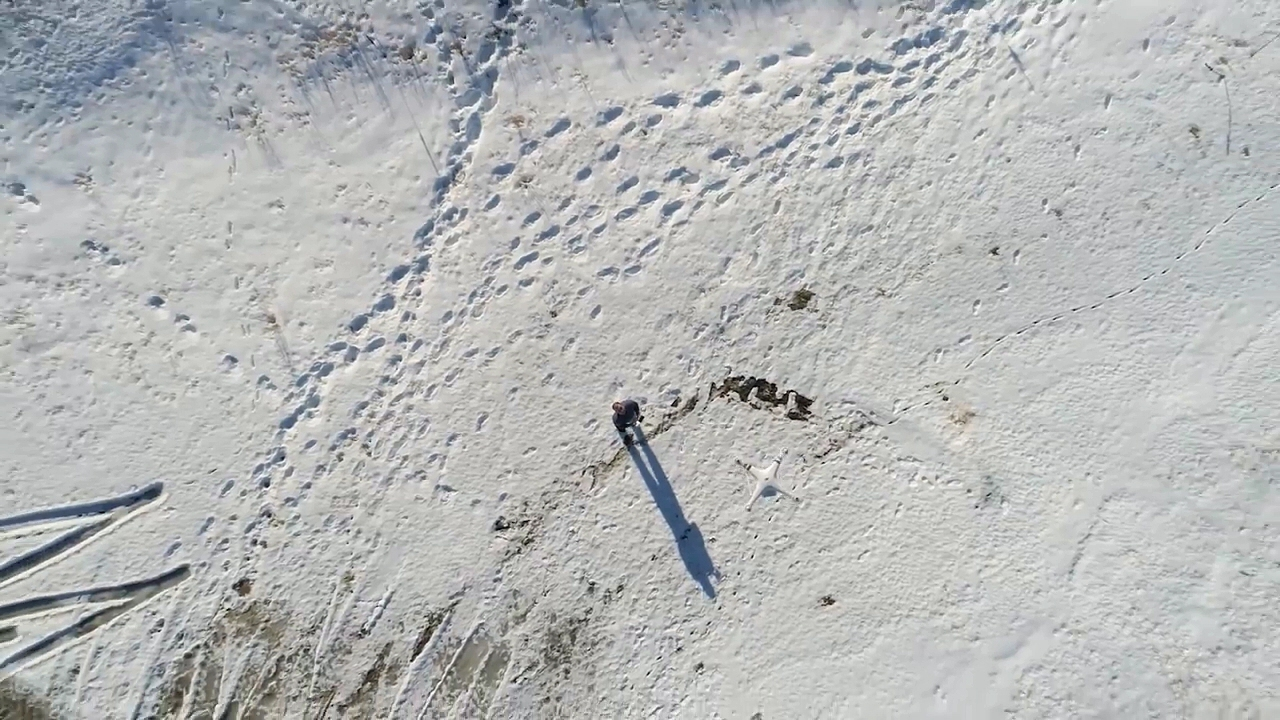insan: (607, 397, 646, 433)
